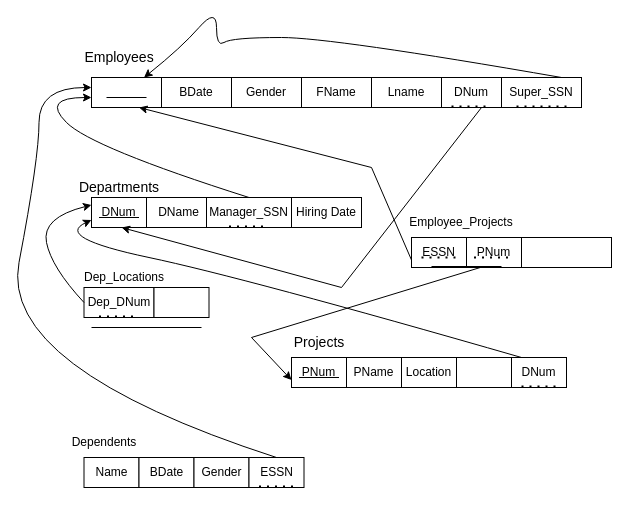
This 629x506 diagram has some shape labels left out. Each missing label, with the centre of its shape:
City: point (484, 372)
Locations: point (181, 302)
Num_of_hours: point (566, 252)
SSN: point (126, 92)
